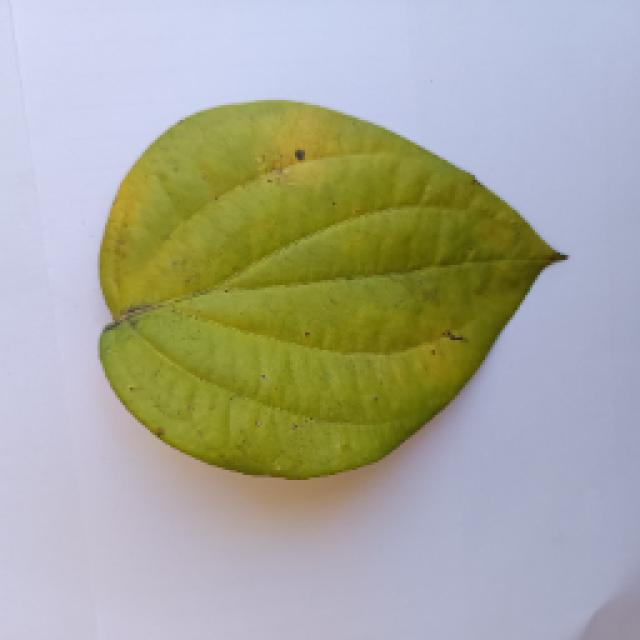slow-decline: (85, 95, 583, 487)
